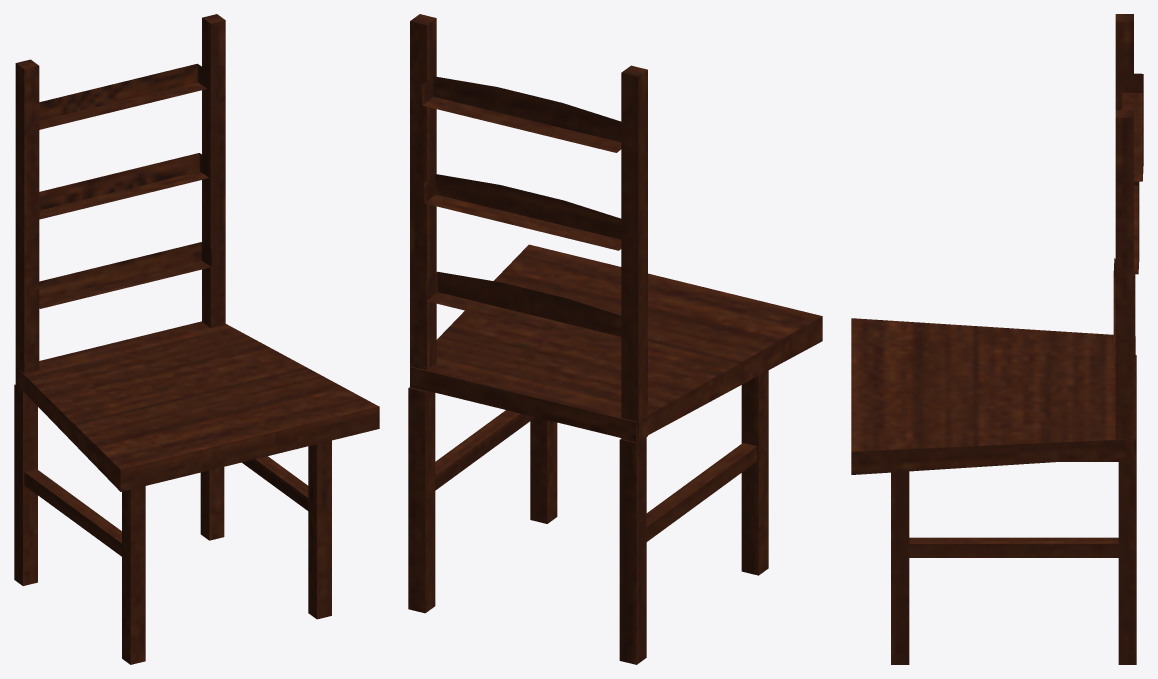
Rendered from Simple Wooden Chair.fbx.
The picture shows the model from 3 angles, left to right: view 1: azimuth 30°, elevation 25°; view 2: azimuth 150°, elevation 25°; view 3: azimuth 270°, elevation 25°; orthographic projection. The views are drawn at different scales.
Visible parts, largest first — view 1: Cube.008; view 2: Cube.008; view 3: Cube.008.
Part boxes in pixels (box(x1,y1,x2,y2)): Cube.008: box(14, 14, 379, 664); Cube.008: box(408, 14, 822, 664); Cube.008: box(851, 14, 1143, 664).
Bounding box in the file's own units: 278 × 531 × 257.
1 material, 1 textured.
